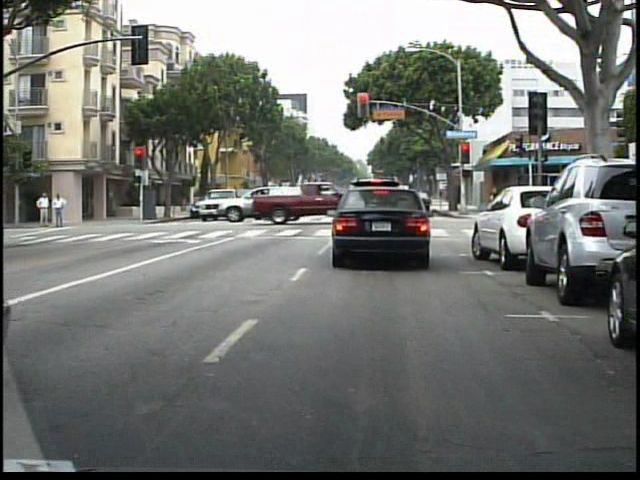person: (33, 189, 50, 231), (50, 191, 67, 231)
